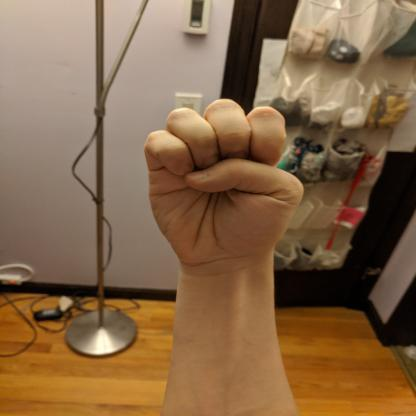E: (140, 96, 309, 269)
